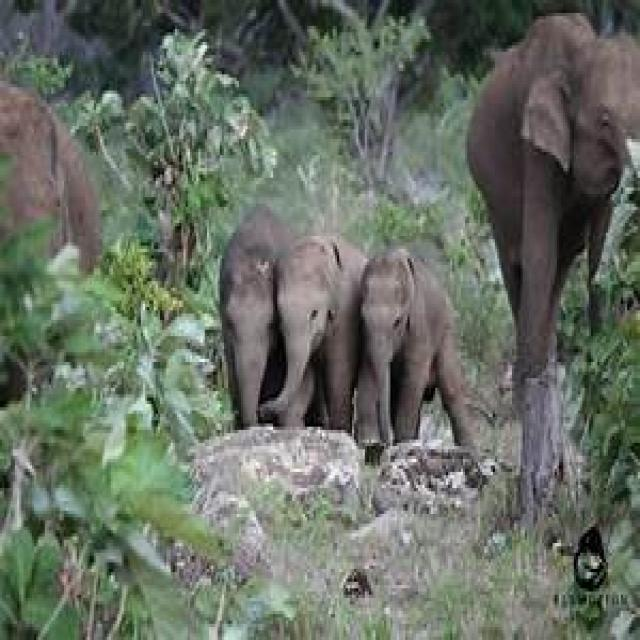elephant: (465, 13, 640, 507), (348, 249, 476, 456), (258, 236, 371, 433), (220, 210, 297, 430)
